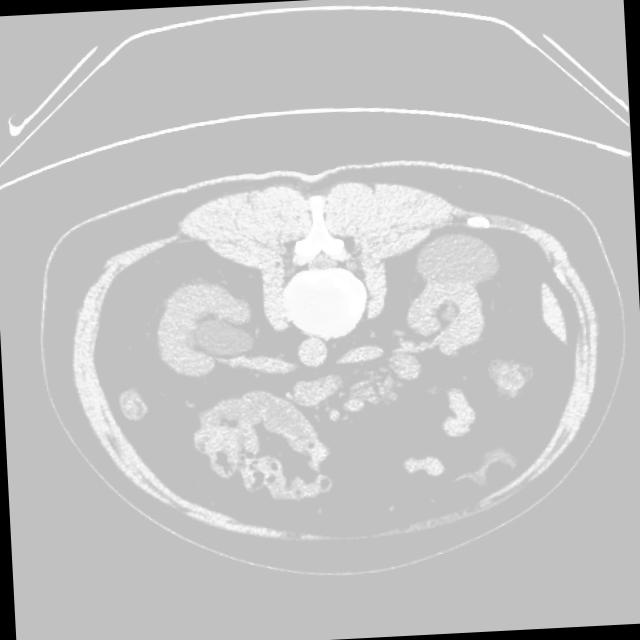cysts: (56, 157, 614, 565)
